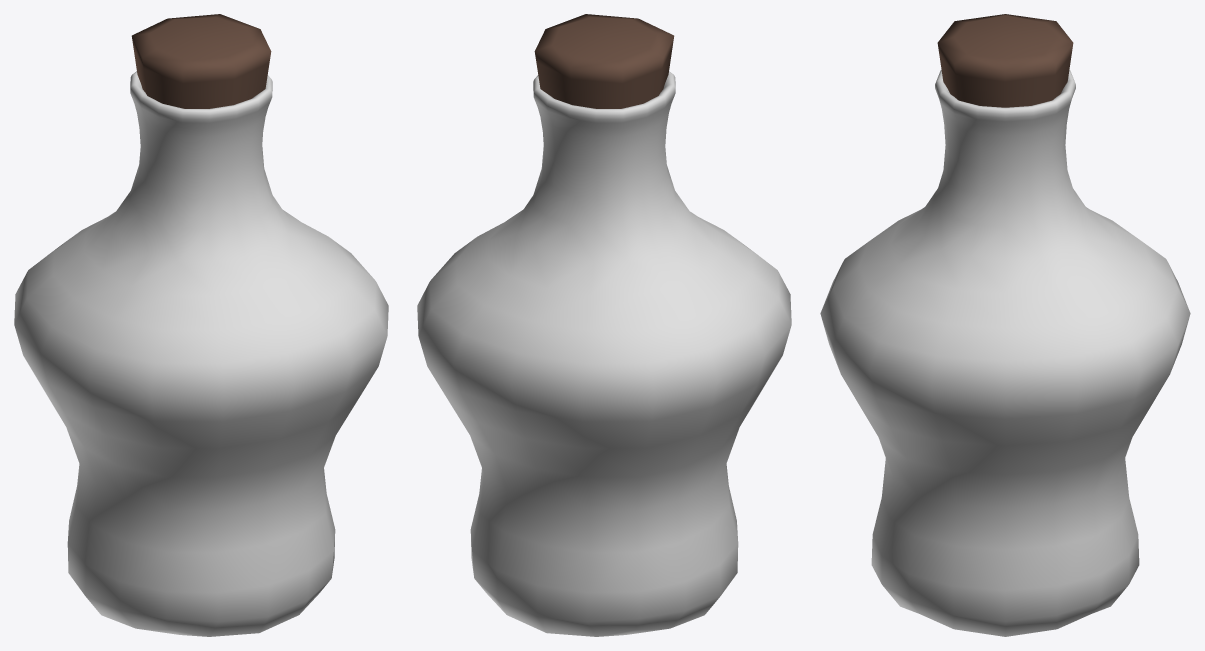
Rendered from potion3_empty.glb.
The picture shows the model from 3 angles, left to right: view 1: azimuth 30°, elevation 25°; view 2: azimuth 150°, elevation 25°; view 3: azimuth 270°, elevation 25°; orthographic projection.
Visible parts, largest first — view 1: Potion3_Empty; view 2: Potion3_Empty; view 3: Potion3_Empty.
Part boxes in pixels (left/top/right/bottom): Potion3_Empty: left=14, top=14, right=388, bottom=636; Potion3_Empty: left=417, top=14, right=791, bottom=636; Potion3_Empty: left=820, top=14, right=1190, bottom=636.
Bounding box in the file's own units: 0.7187 × 1.22 × 0.7187.
